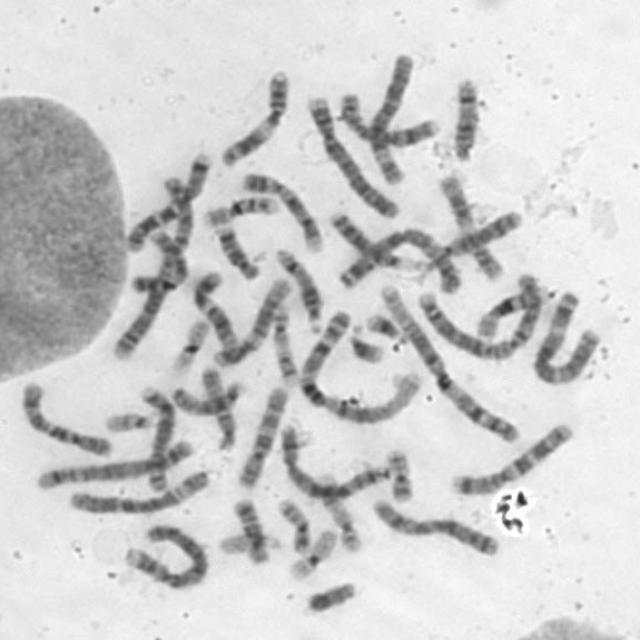A1: (376, 281, 521, 444), (294, 306, 422, 426)
A2: (106, 172, 197, 362), (413, 270, 546, 362)
A3: (332, 218, 463, 297), (526, 286, 606, 388)
B4: (302, 90, 402, 219), (118, 521, 210, 590)
B5: (31, 436, 195, 492), (277, 421, 390, 502)
C10: (17, 377, 118, 460), (232, 382, 290, 490)
C11: (215, 65, 293, 170), (433, 171, 506, 282)
C12: (206, 272, 294, 370), (188, 267, 241, 352)
C6: (362, 47, 417, 185), (64, 466, 215, 516)
C7: (445, 419, 578, 497), (122, 147, 215, 256)
C8: (333, 89, 441, 149), (138, 381, 176, 494)
C9: (236, 166, 326, 253), (128, 228, 189, 296)
D13: (425, 205, 524, 265), (325, 206, 412, 272)
D14: (273, 244, 326, 335), (445, 74, 483, 165)
D15: (196, 362, 238, 450), (169, 378, 247, 417)
E16: (472, 274, 546, 340), (198, 191, 282, 230)
E17: (315, 468, 363, 552), (268, 301, 301, 387)
E18: (212, 221, 262, 281), (228, 494, 270, 564)
F19: (284, 525, 339, 582), (166, 315, 211, 375)
F20: (273, 493, 314, 554), (382, 444, 416, 503)
G21: (346, 320, 386, 366), (362, 308, 405, 342)
G22: (215, 529, 284, 560), (99, 407, 158, 433)
X: (367, 495, 502, 557)
Y: (300, 576, 360, 614)
